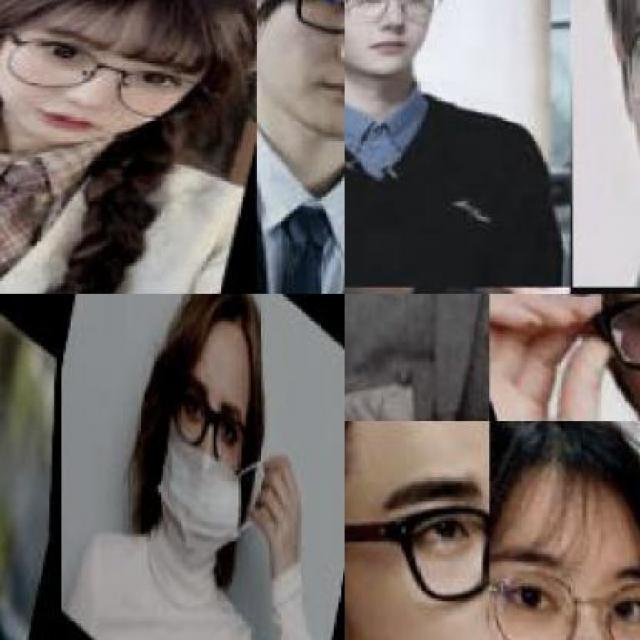glasses: (0, 27, 221, 128), (345, 499, 486, 607), (492, 573, 640, 638), (164, 393, 249, 471), (575, 294, 638, 393), (257, 0, 344, 39), (344, 0, 448, 28)
